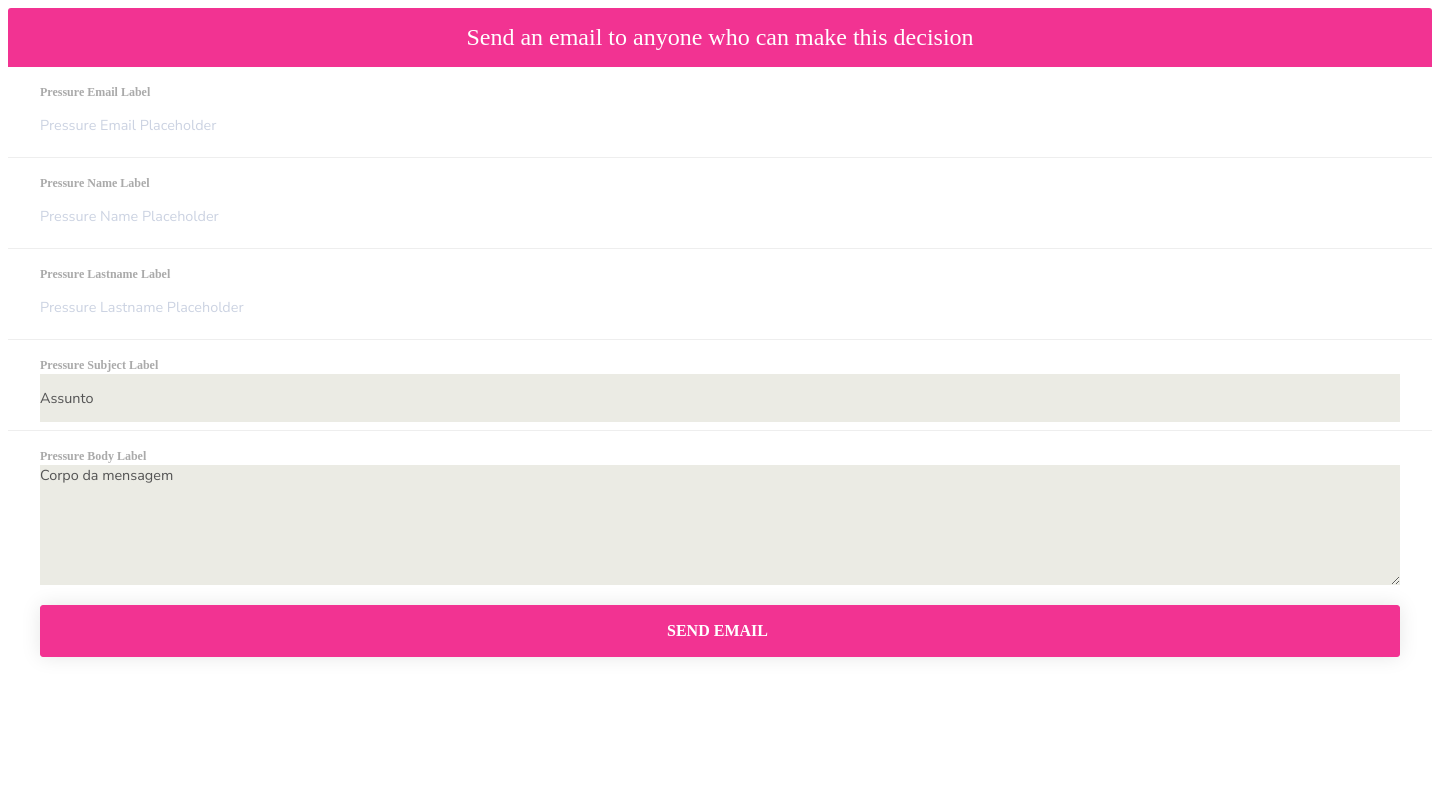
Plugin unsuccessful behavior paths › should return an error if there are no set targets
Type "Teste" into the field named "name" at (720, 216), box [40,192,1400,240]
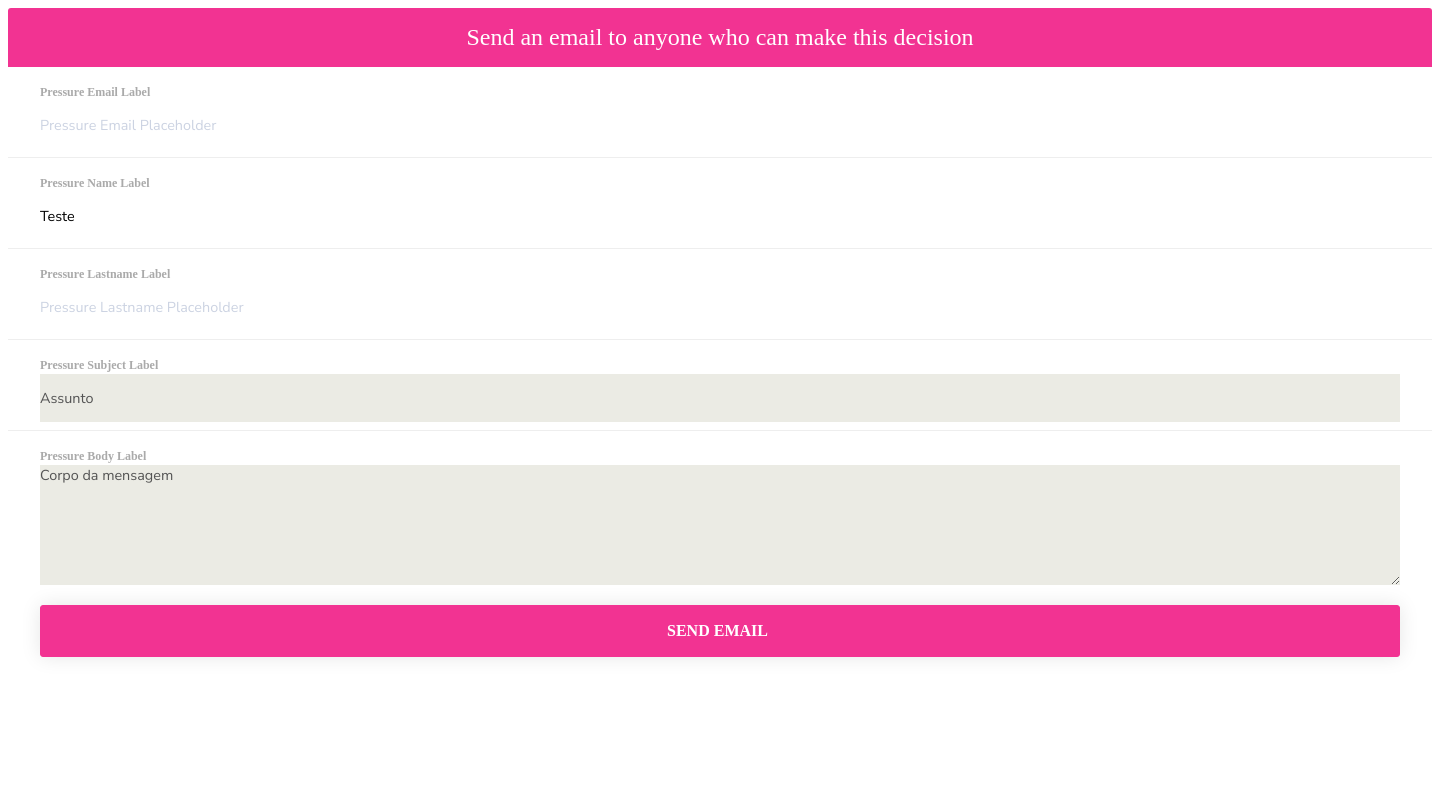
Type "Sobrenome Teste" into the field named "lastname" at (720, 307), box [40,283,1400,331]
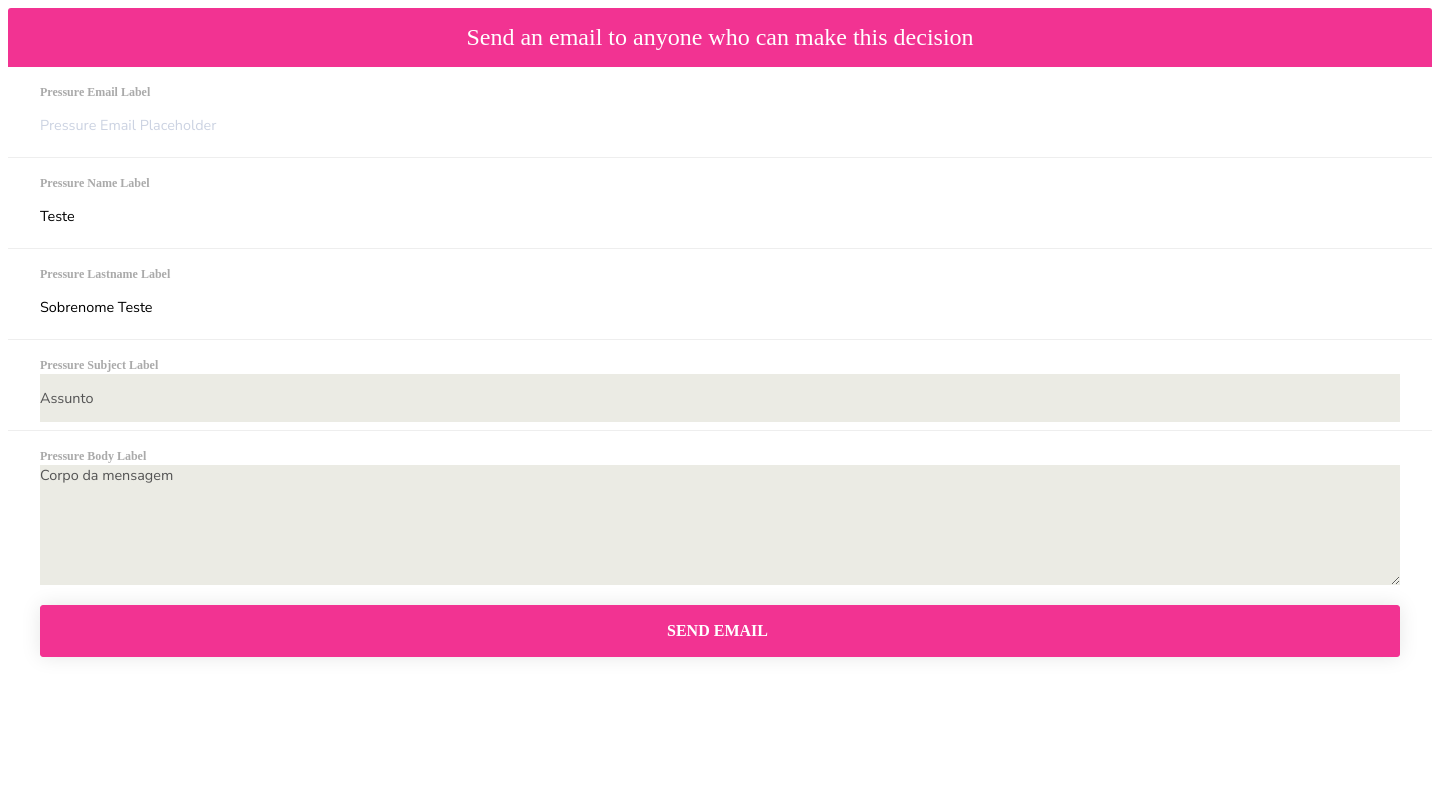
Type "test@email.com" into the field named "email" at (720, 125), box [40,101,1400,149]
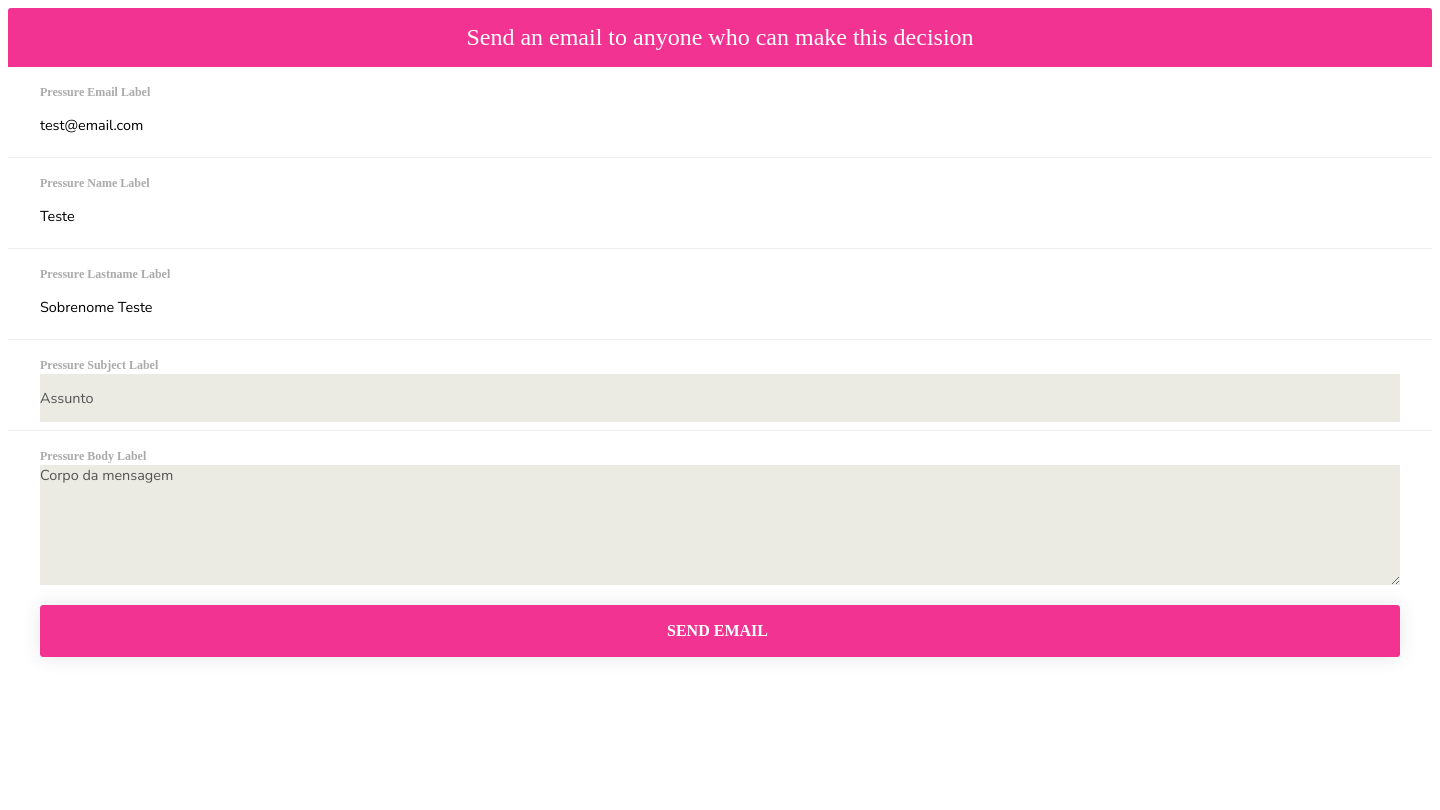
Click the button "Send Email" at (720, 631), box [40,605,1400,657]
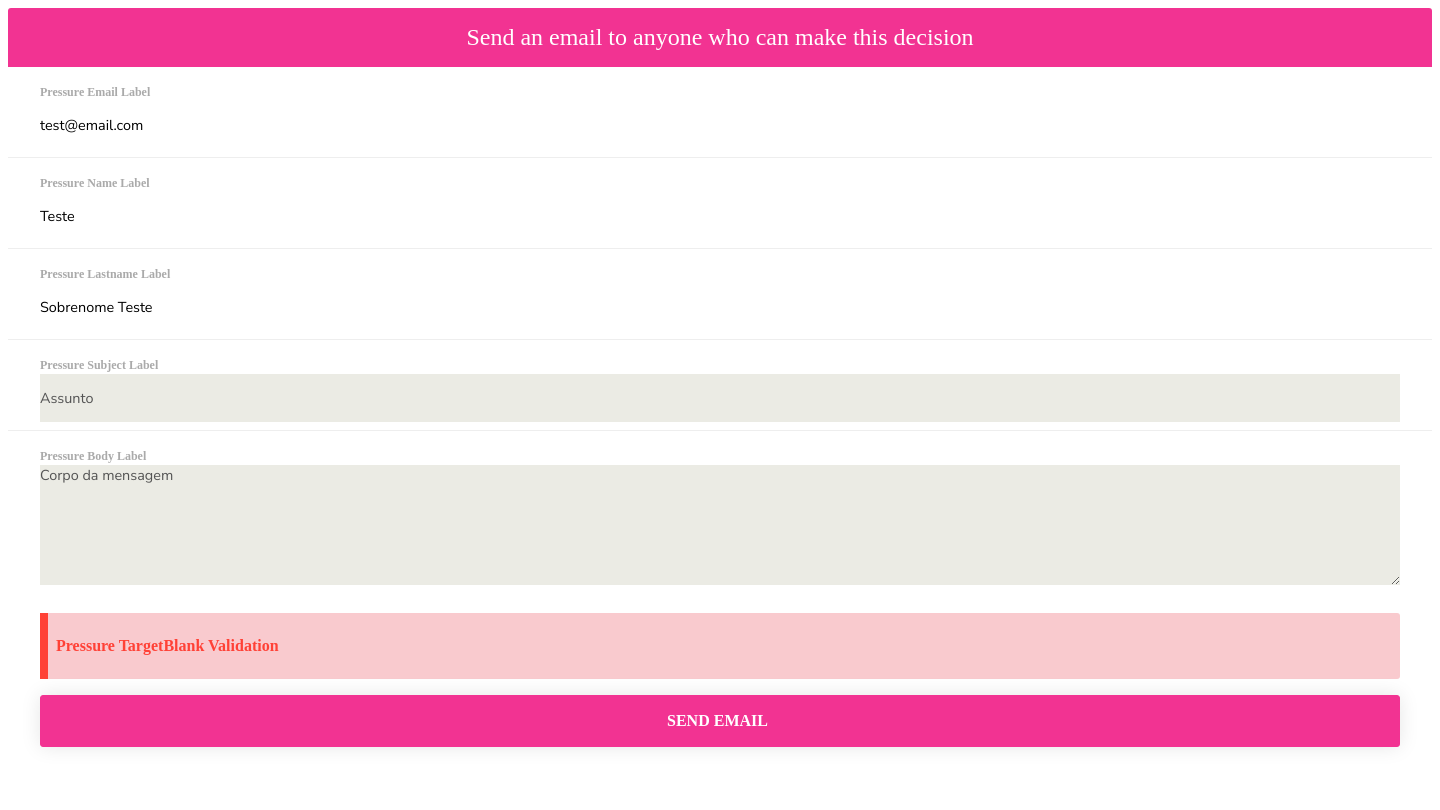
Expected: the button "Send Email" is shown, [40,695,1400,747]
Result: the text "Pressure TargetBlank Validation" is shown at [56,637,279,654]
